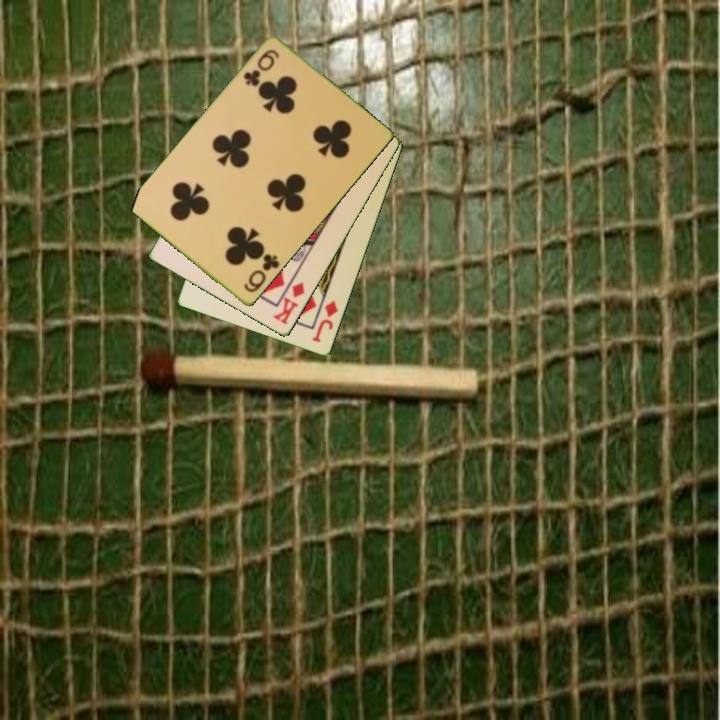6c: (240, 251, 283, 296), (240, 46, 282, 90)
Jd: (309, 297, 341, 346)
Kd: (269, 279, 308, 328)
